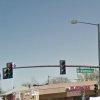Traffic light: (53, 51, 71, 78)
